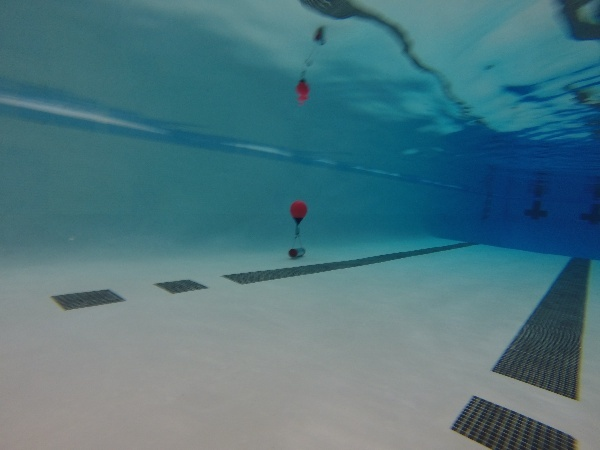buoy_red: (288, 199, 308, 225)
